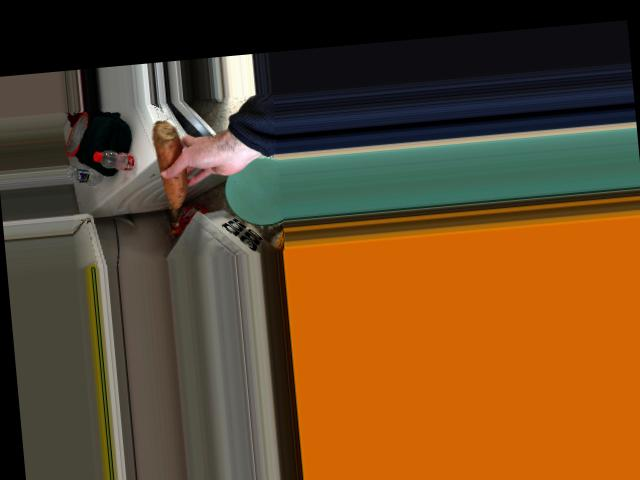sweet_potato: (161, 132, 189, 208)
